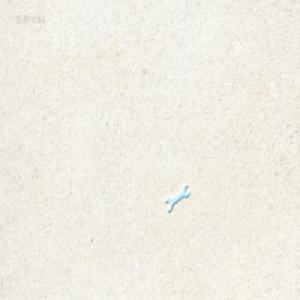Wrench: (165, 182, 189, 211)
